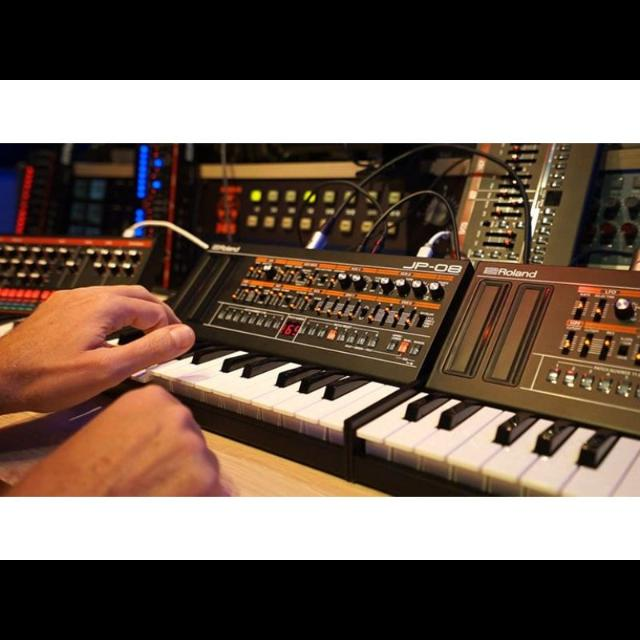Electronic-Keyboard: (431, 259, 627, 481), (198, 243, 410, 414)
